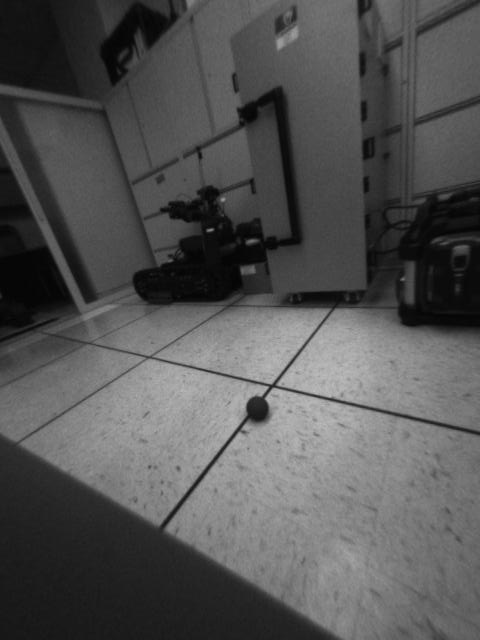dogtoy: (240, 390, 277, 427)
